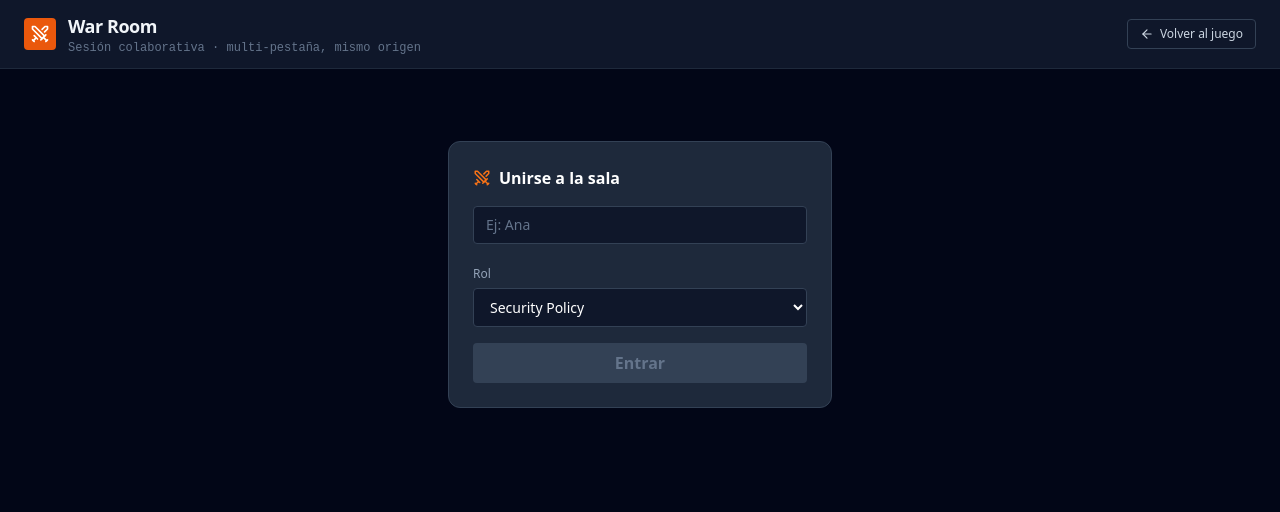
WarRoom — pantalla de unión › al unirse muestra la sala con el editor colaborativo
In the field named "tu nombre": (640, 225) [473,206,807,244], type "Ana"
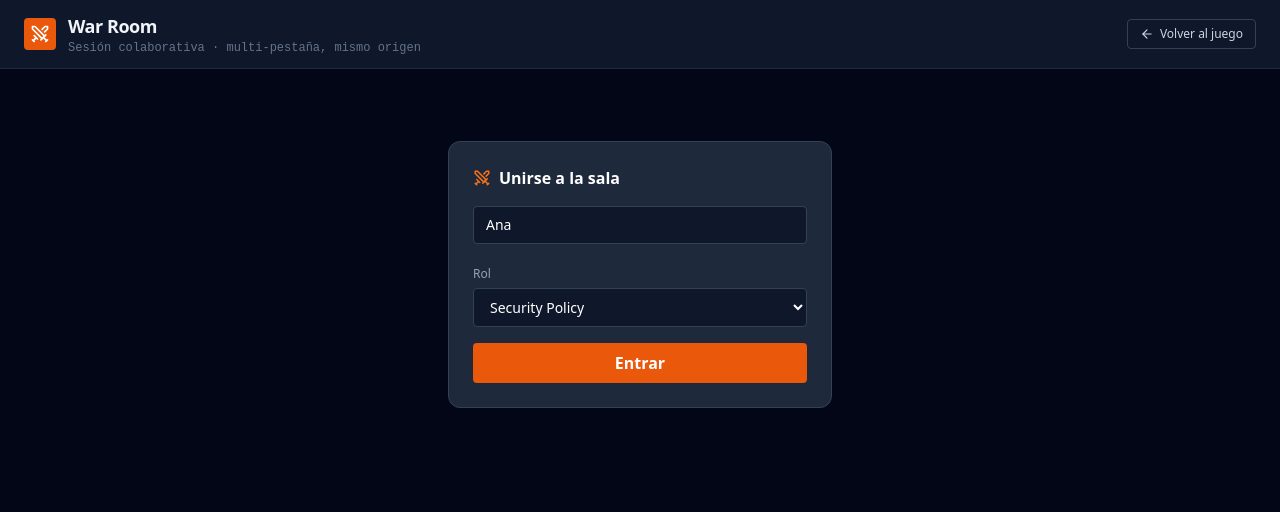
Click the button "Entrar": (640, 363) [473,343,807,383]
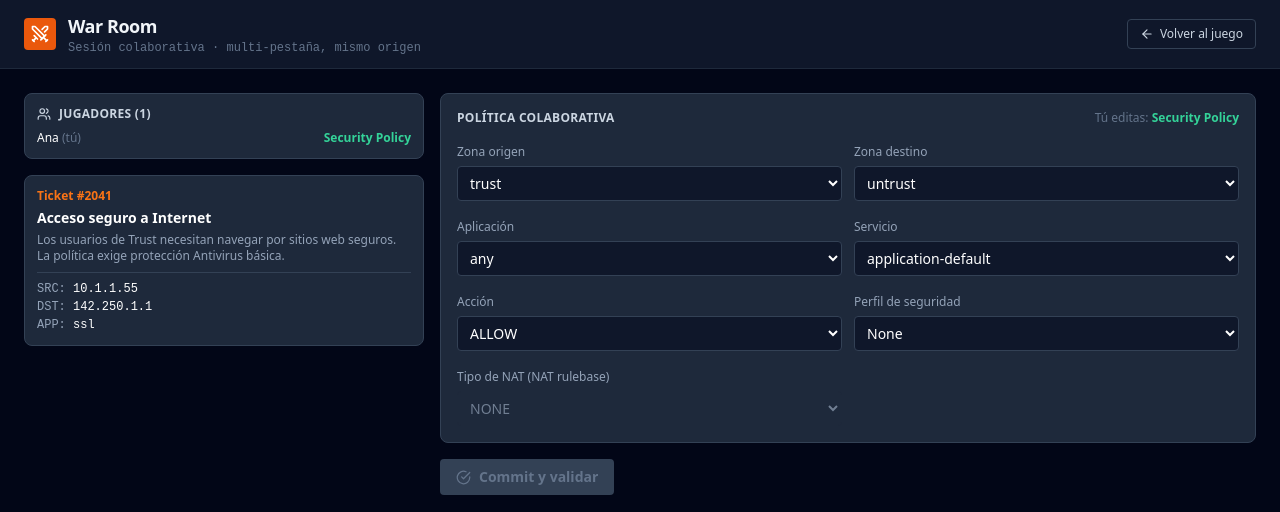
Expected: the heading "Política colaborativa" is shown, [457,110,615,126]
Expected: the text "Ana" is shown, [37,129,59,146]
